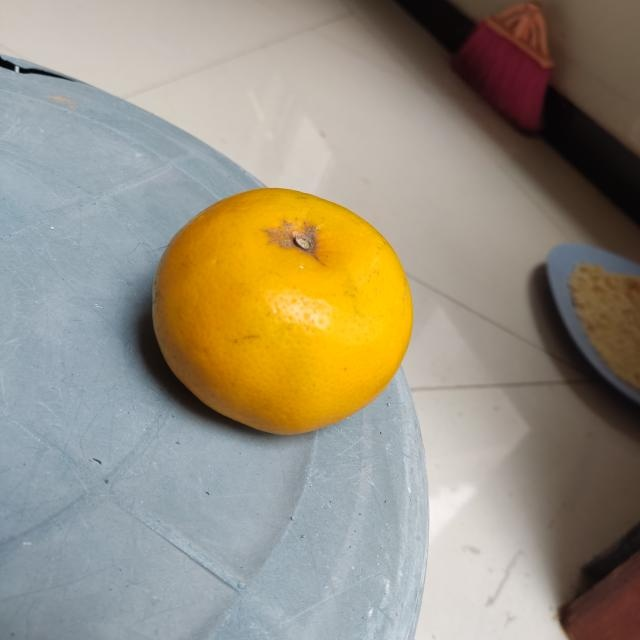agrume: (153, 185, 414, 439)
